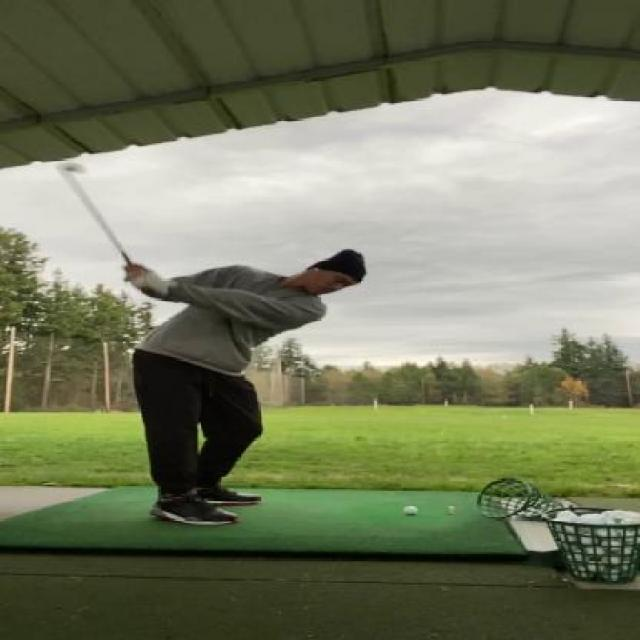club head: (54, 159, 88, 183)
